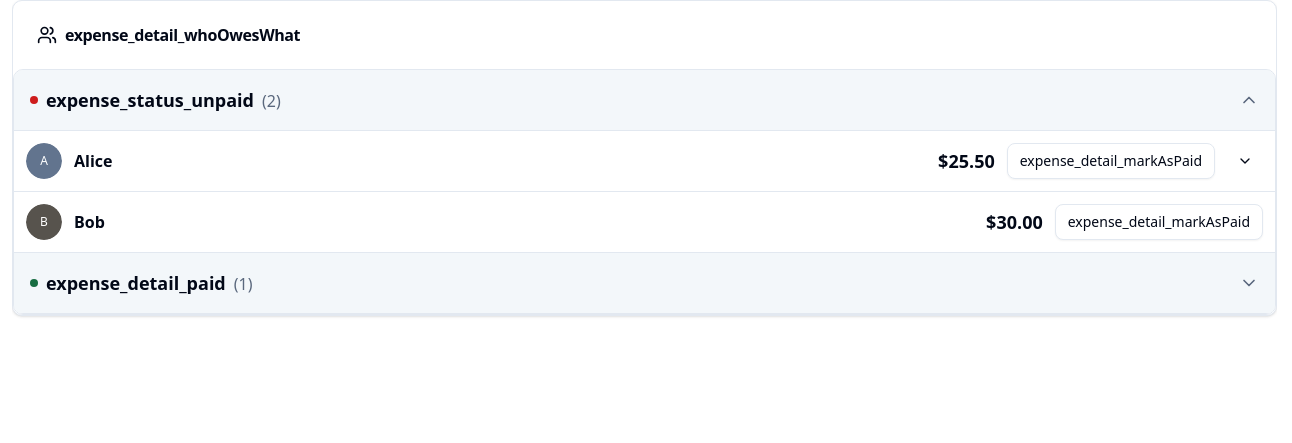
Test: ExpenseParticipants › expands and shows items when expand button clicked
Expected: the element showing "Alice" is shown, [74,150,112,172]
Click the button named "Expand items" at (1245, 161), box [1227,143,1263,179]
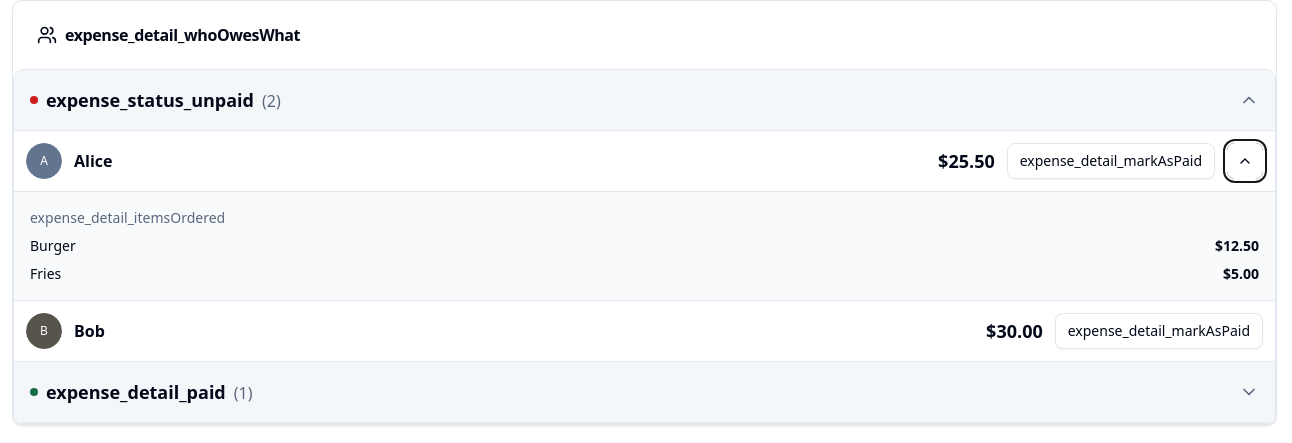
Result: the text "Burger" is shown at [30,236,76,255]
Result: the text "Fries" is shown at [30,264,61,283]
